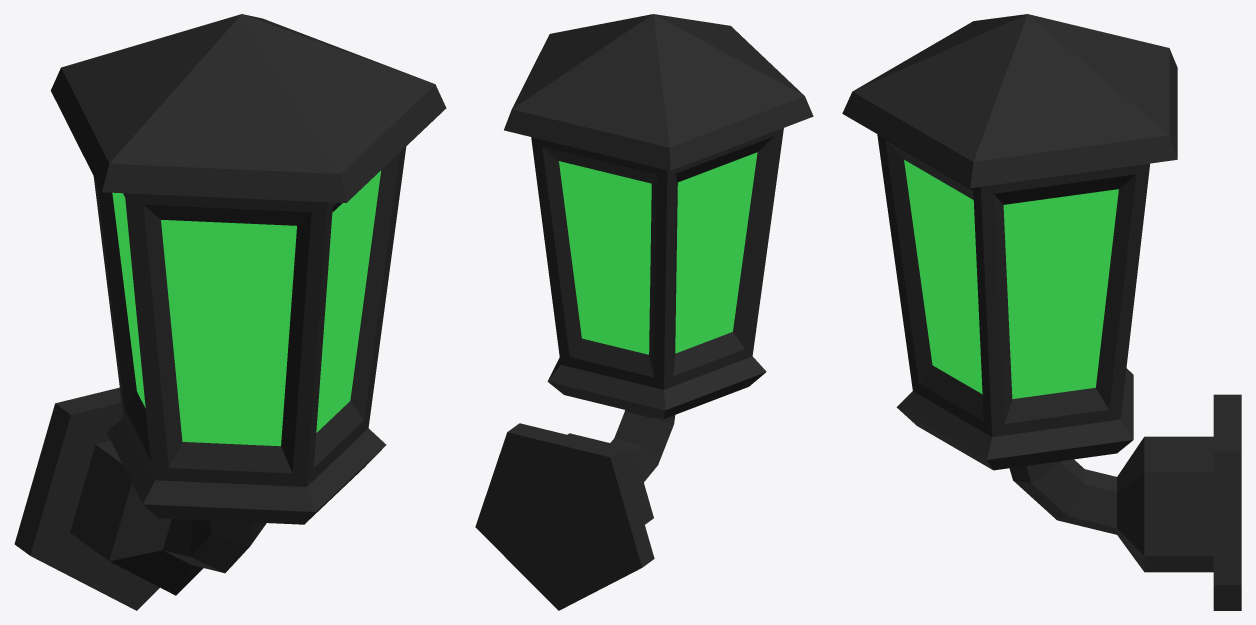
File: LPHorror_WallLamp.fbx
The picture shows the model from 3 angles, left to right: view 1: azimuth 30°, elevation 25°; view 2: azimuth 150°, elevation 25°; view 3: azimuth 270°, elevation 25°; orthographic projection. The views are drawn at different scales.
Visible parts, largest first — view 1: WallLamp; view 2: WallLamp; view 3: WallLamp.
Part boxes in pixels (x1,y1,x2,y2): WallLamp: [14, 14, 446, 610]; WallLamp: [475, 14, 813, 610]; WallLamp: [842, 14, 1241, 610].
Bounding box in the file's own units: 39.85 × 74.43 × 45.14.
